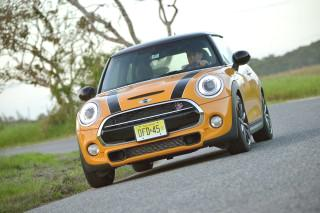mini: (129, 98, 163, 108)
